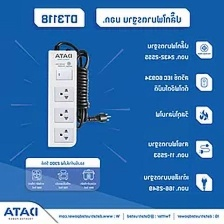three_eye_plug: (45, 47, 81, 150)
